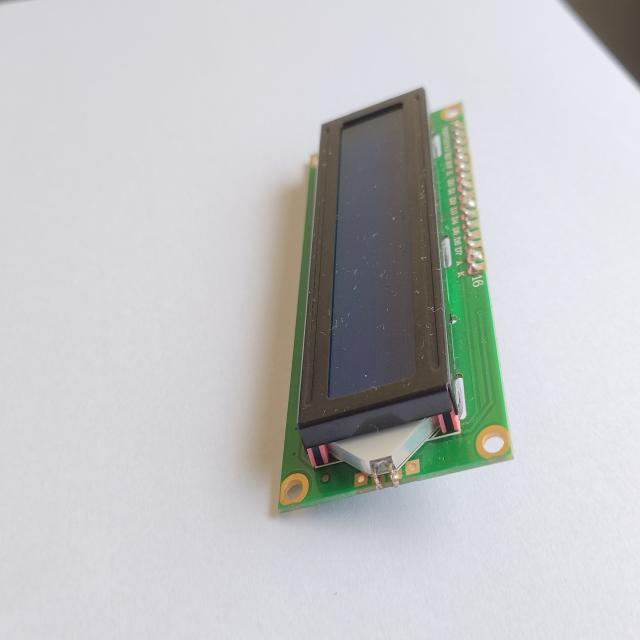lcd: (265, 83, 536, 527)
